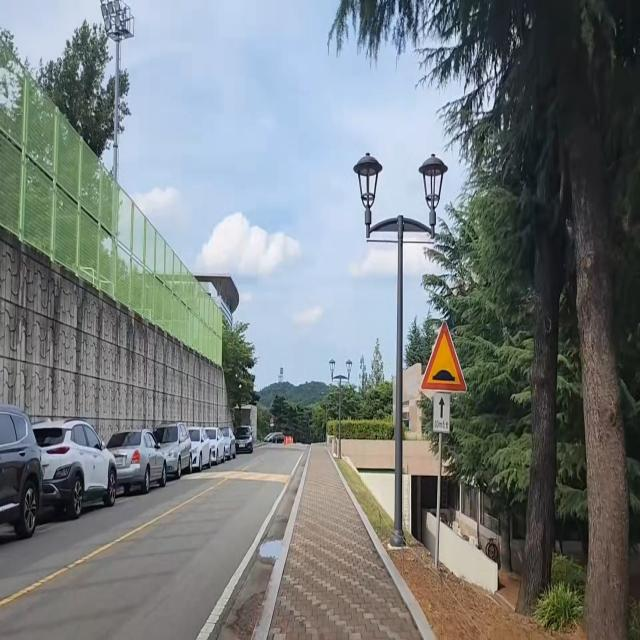obstacle: (348, 138, 451, 553), (0, 403, 258, 554), (417, 308, 472, 567)
road: (0, 446, 308, 640)
sidewalk: (258, 443, 443, 640)
